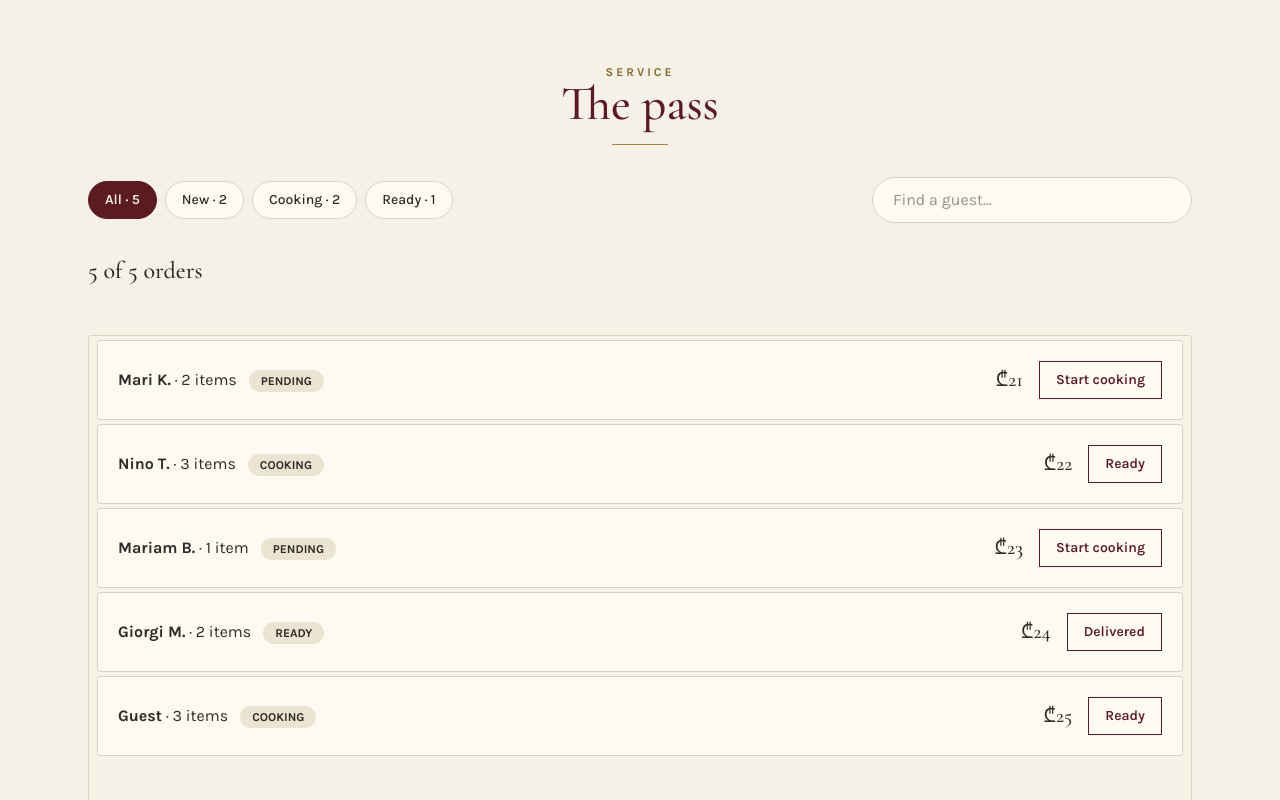
Test: KitchenPage › finds a guest while the cook types
Expected: the text "5 of 5 orders" is shown, [88,256,203,285]
Type "mari" into the search field labelled "Find a guest". click: (1032,200)
box: [872,177,1192,223]
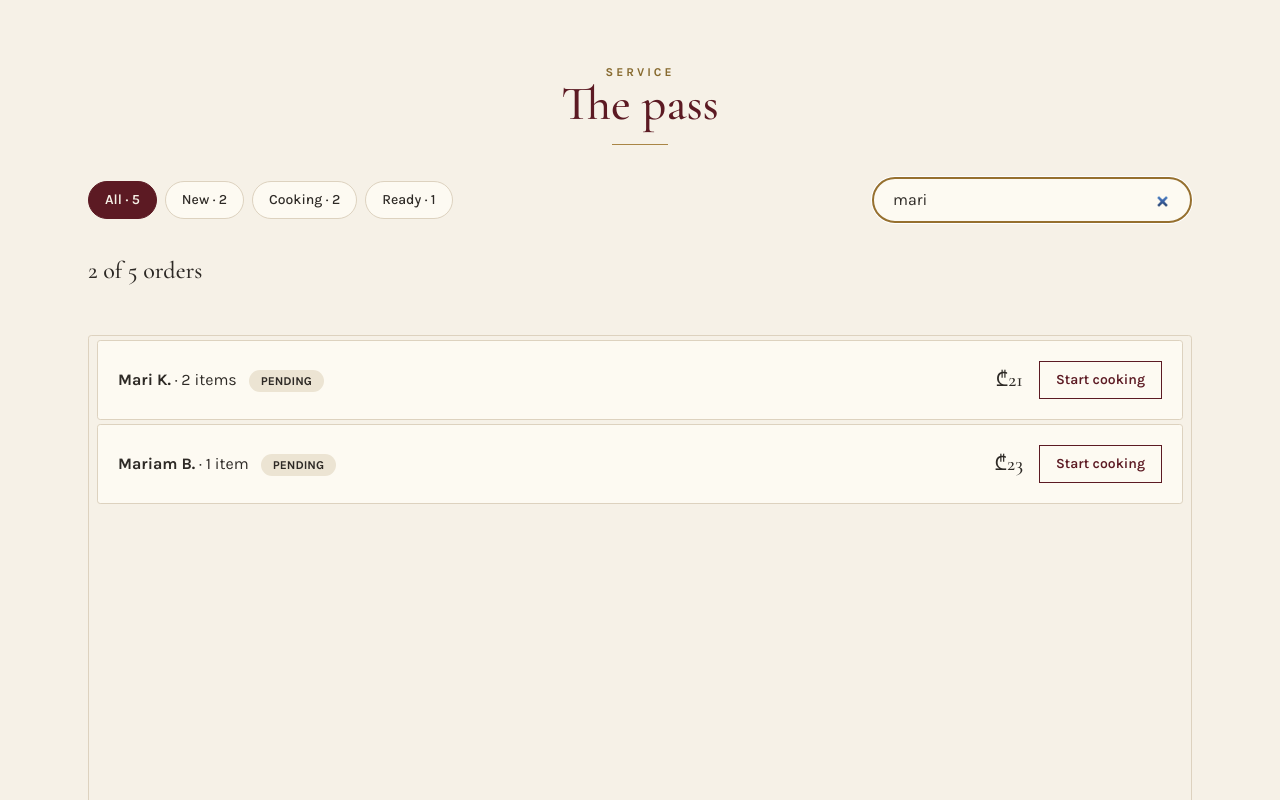
Result: the text "2 of 5 orders" is shown at [88,256,202,285]
